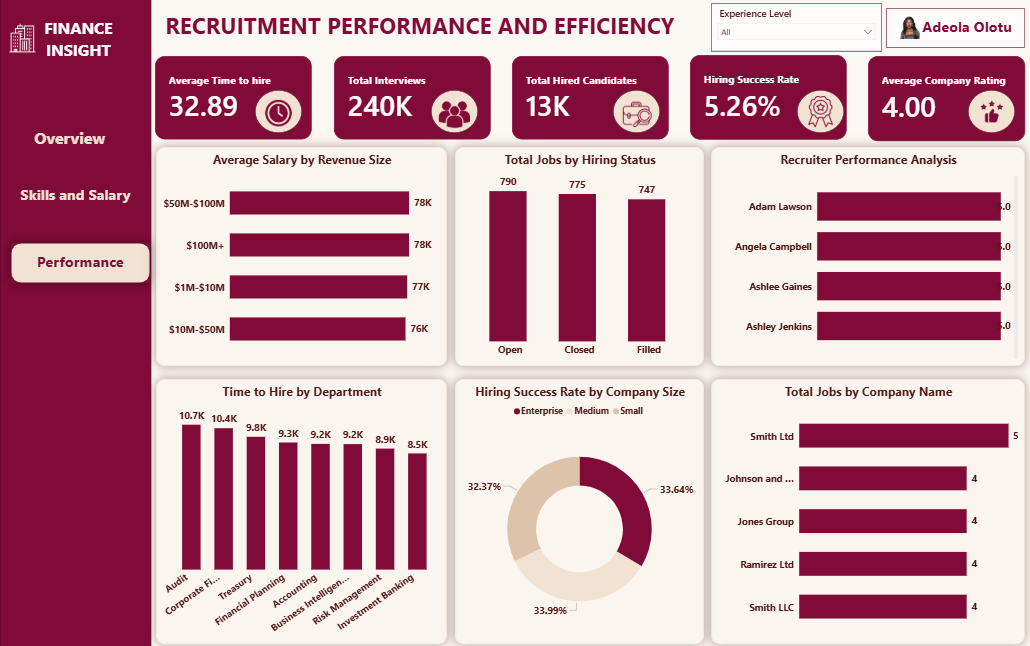

The dashboard page shown, as its layout file describes it:
{"tool":"powerbi","page":{"name":"Recruitment Performance and Efficiency","canvas":[1720,1080],"ordinal":5},"visuals":[{"type":"cardVisual","fields":{"Data":["Measures (2).Total Interviews"]},"box":[555.9,95.1,261,138.6],"z":0},{"type":"shape","box":[718.3,151.7,78.3,71.7],"z":1000},{"type":"shape","box":[0,0,252,1082],"z":2000},{"type":"textbox","box":[198.3,13.3,975,68.3],"z":3000},{"type":"slicer","fields":{"Values":["Job details DIM.Experience Level"]},"box":[1185.5,7.4,284.8,81.4],"z":4000},{"type":"cardVisual","fields":{"Data":["Measures (2).Average Time to hire"]},"box":[258.9,94.3,261,138.7],"z":5000},{"type":"shape","box":[18.3,406.7,231.7,66.7],"z":6000},{"type":"cardVisual","fields":{"Data":["Measures (2).Total Hired"]},"box":[852.8,95.5,261,138.6],"z":7000},{"type":"cardVisual","fields":{"Data":["Measures (2).Hiring Success Rate"]},"box":[1149.7,94,261,140.6],"z":8000},{"type":"image","box":[8.5,34.2,58.1,59.8],"z":9000},{"type":"textbox","title":"OVERVIEW","box":[32.5,189.7,169.2,66.6],"z":10000},{"type":"textbox","title":"OVERVIEW","box":[13.3,286.7,225,66.7],"z":11000},{"type":"textbox","title":"OVERVIEW","box":[26.7,415,215,50],"z":12000},{"type":"cardVisual","fields":{"Data":["Measures (2).Average Company Rating"]},"box":[1446.7,95,261.7,141.7],"z":13000},{"type":"textbox","box":[34.2,25.6,191.4,88.9],"z":14000},{"type":"textbox","title":"OVERVIEW","box":[42.5,199.7,169.2,66.6],"z":15000},{"type":"image","box":[718.3,161.7,78.3,61.7],"z":17000},{"type":"shape","box":[1613.3,151.7,78.3,71.7],"z":18000},{"type":"image","box":[1625,161.7,55,51.7],"z":19000},{"type":"shape","box":[1475.9,14.8,231.2,66.6],"z":20000},{"type":"textbox","title":"OVERVIEW","box":[1525.8,24,173.8,49.9],"z":21000},{"type":"image","box":[1479.6,22.2,66.6,49.9],"z":22000},{"type":"shape","box":[425,151.7,78.3,71.7],"z":23000},{"type":"image","box":[431.7,161.7,65,56.7],"z":24000},{"type":"columnChart","fields":{"Y":["Measures (2).Total Jobs"],"Category":["Job details DIM.Hiring Status"]},"box":[758.3,246.7,415,365],"z":25000},{"type":"columnChart","title":"Time to Hire by Department","fields":{"Category":["Job details DIM.Department"],"Y":["Sum(Recruitment.Time to Hire)"]},"box":[260,633.3,485,441.7],"z":26000},{"type":"clusteredBarChart","fields":{"Category":["Recruitment.Company Name"],"Y":["Measures (2).Total Jobs"]},"box":[1185,633.3,523.3,441.7],"z":27000},{"type":"donutChart","fields":{"Category":["Company DIM.Company Size"],"Y":["Measures (2).Hiring Success Rate"]},"box":[758.3,633.3,415,441.7],"z":28000},{"type":"clusteredBarChart","title":"Average Salary by Revenue Size","fields":{"Category":["Company DIM.Revenue Size"],"Y":["Measures (2).Average Salary Midpoint"]},"box":[260,246.7,485,365],"z":29000},{"type":"clusteredBarChart","title":"Recruiter Performance Analysis ","fields":{"Category":["Recruiter DIM.Recruiter Name"],"Y":["Measures (2).Average Recruiter Rating"]},"box":[1185,246.7,523.3,365],"z":30000},{"type":"shape","box":[1328.3,151.7,78.3,71.7],"z":31000},{"type":"shape","box":[1021.7,151.7,78.3,71.7],"z":32000},{"type":"image","box":[1030,163.3,63.3,58.3],"z":33000},{"type":"image","box":[1336.7,156.7,61.7,61.7],"z":34000}]}

Visuals, with their boxes in screenshot pixels (x1, y1, x2, y2), scaled from the page's 1720x1080 canvas onto the 1030x646 screenshot:
cardVisual - Measures (2).Total Interviews: x1=333 y1=57 x2=489 y2=140
shape: x1=430 y1=91 x2=477 y2=134
shape: x1=0 y1=0 x2=151 y2=645
textbox: x1=119 y1=8 x2=703 y2=49
slicer - Job details DIM.Experience Level: x1=710 y1=4 x2=880 y2=53
cardVisual - Measures (2).Average Time to hire: x1=155 y1=56 x2=311 y2=139
shape: x1=11 y1=243 x2=150 y2=283
cardVisual - Measures (2).Total Hired: x1=511 y1=57 x2=667 y2=140
cardVisual - Measures (2).Hiring Success Rate: x1=688 y1=56 x2=845 y2=140
image: x1=5 y1=20 x2=40 y2=56
"OVERVIEW" textbox: x1=19 y1=113 x2=121 y2=153
"OVERVIEW" textbox: x1=8 y1=171 x2=143 y2=211
"OVERVIEW" textbox: x1=16 y1=248 x2=145 y2=278
cardVisual - Measures (2).Average Company Rating: x1=866 y1=57 x2=1023 y2=142
textbox: x1=20 y1=15 x2=135 y2=68
"OVERVIEW" textbox: x1=25 y1=119 x2=127 y2=159
image: x1=430 y1=97 x2=477 y2=134
shape: x1=966 y1=91 x2=1013 y2=134
image: x1=973 y1=97 x2=1006 y2=128
shape: x1=884 y1=9 x2=1022 y2=49
"OVERVIEW" textbox: x1=914 y1=14 x2=1018 y2=44
image: x1=886 y1=13 x2=926 y2=43
shape: x1=255 y1=91 x2=301 y2=134
image: x1=259 y1=97 x2=297 y2=131
columnChart - Measures (2).Total Jobs x Job details DIM.Hiring Status: x1=454 y1=148 x2=703 y2=366
"Time to Hire by Department" columnChart: x1=156 y1=379 x2=446 y2=643
clusteredBarChart - Recruitment.Company Name x Measures (2).Total Jobs: x1=710 y1=379 x2=1023 y2=643
donutChart - Company DIM.Company Size x Measures (2).Hiring Success Rate: x1=454 y1=379 x2=703 y2=643
"Average Salary by Revenue Size" clusteredBarChart: x1=156 y1=148 x2=446 y2=366
"Recruiter Performance Analysis " clusteredBarChart: x1=710 y1=148 x2=1023 y2=366
shape: x1=795 y1=91 x2=842 y2=134
shape: x1=612 y1=91 x2=659 y2=134
image: x1=617 y1=98 x2=655 y2=133
image: x1=800 y1=94 x2=837 y2=131
